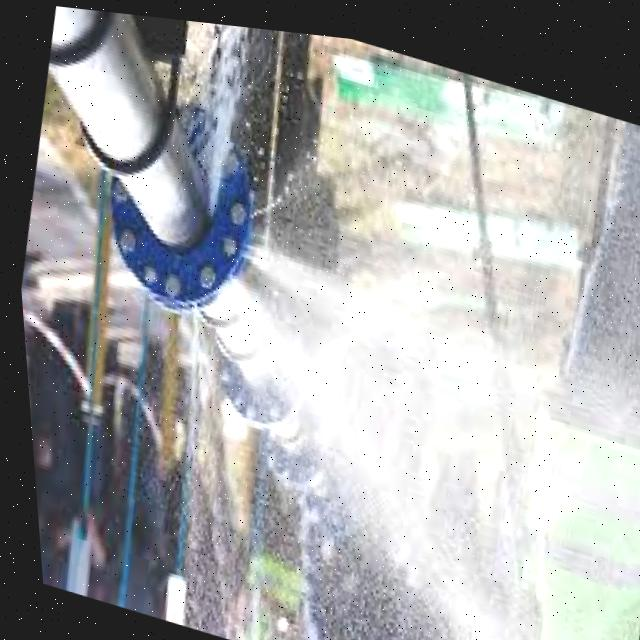corrosion: (65, 53, 435, 479)
